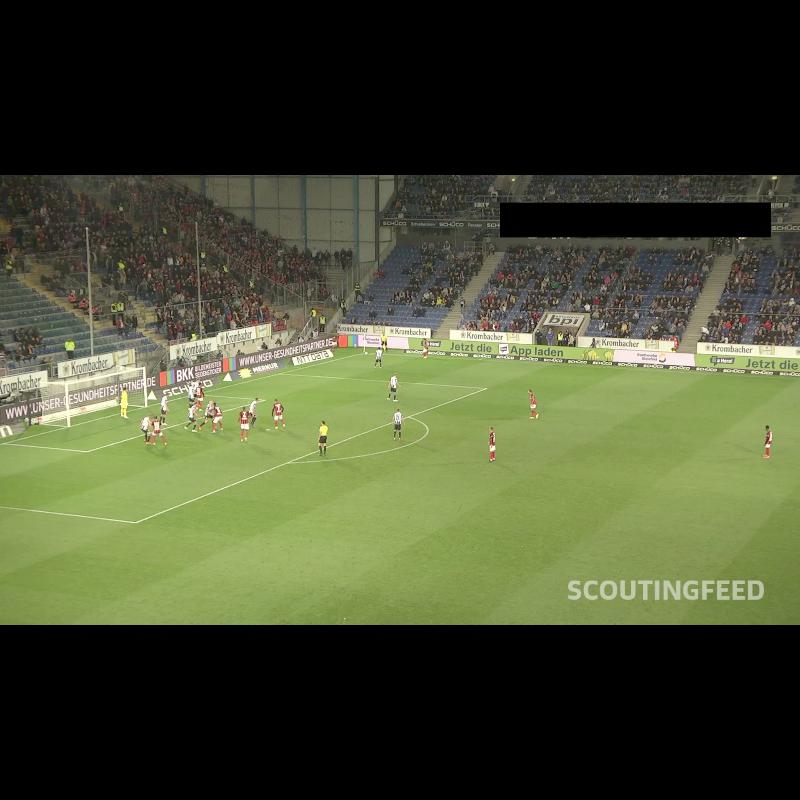cross_recipient_zone: (0, 374, 485, 523)
crossing_player_zone: (0, 507, 323, 625), (281, 353, 666, 398)
pitch: (0, 353, 800, 625)
